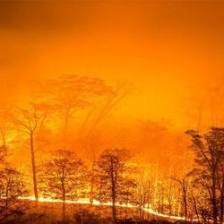fire: (1, 189, 222, 221)
